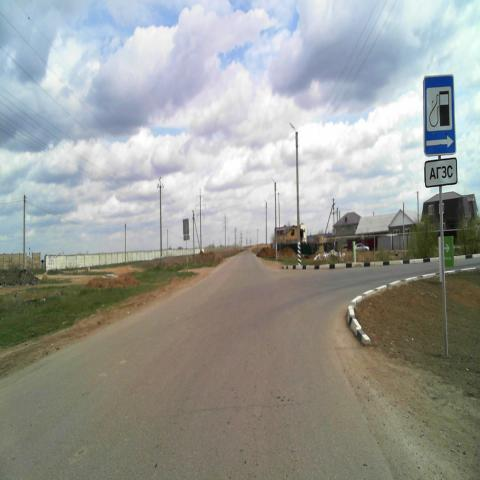7_3: (424, 76, 456, 154)
